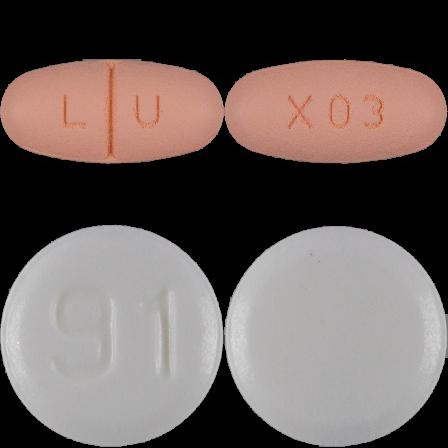63629-5038: (0, 0, 224, 224)
